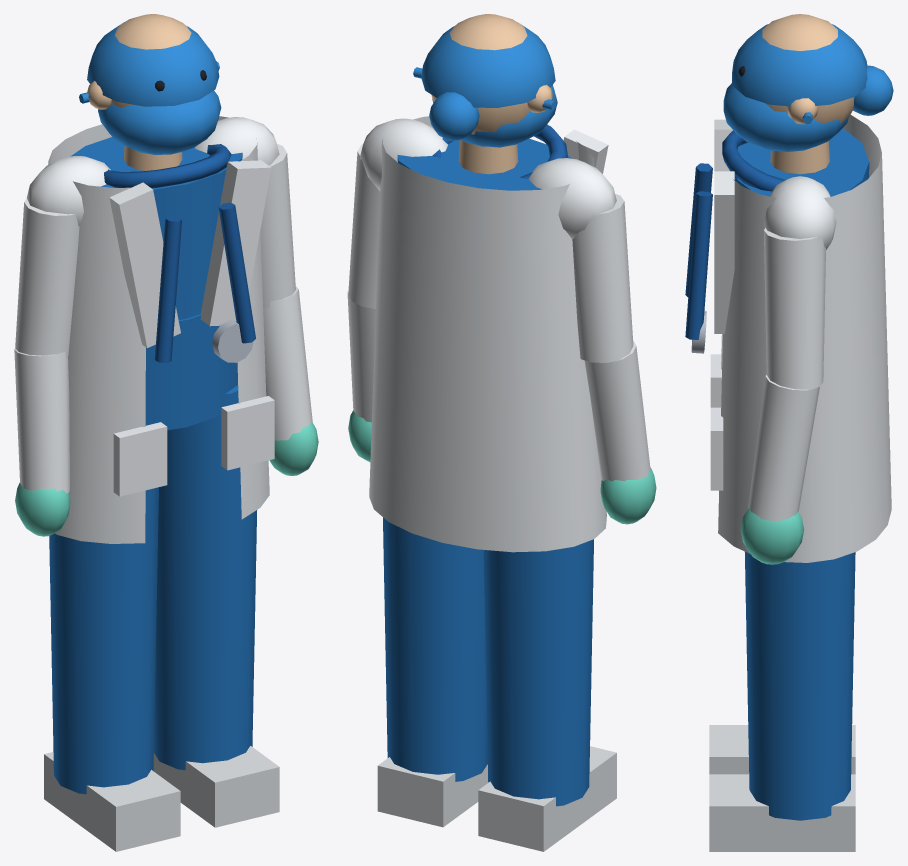
The model's file is staff_surgeon.glb.
3 views of the same model, side by side, from view 1: azimuth 30°, elevation 25°; view 2: azimuth 150°, elevation 25°; view 3: azimuth 270°, elevation 25° (orthographic).
Visible parts, largest first — view 1: staff_surgeon_coat, staff_surgeon_scrub, staff_surgeon_shoe, staff_surgeon_scrubHi, staff_surgeon_tube, staff_surgeon_glove, staff_surgeon_skin, staff_surgeon_steel; view 2: staff_surgeon_coat, staff_surgeon_scrub, staff_surgeon_shoe, staff_surgeon_scrubHi, staff_surgeon_skin, staff_surgeon_glove, staff_surgeon_tube; view 3: staff_surgeon_coat, staff_surgeon_scrub, staff_surgeon_scrubHi, staff_surgeon_shoe, staff_surgeon_skin, staff_surgeon_tube, staff_surgeon_glove.
Boxes of the visible parts, box(x1,y1,x2,y2) form: staff_surgeon_coat: box(14, 116, 312, 543); staff_surgeon_scrub: box(49, 137, 256, 794); staff_surgeon_shoe: box(44, 746, 279, 851); staff_surgeon_scrubHi: box(79, 22, 221, 154); staff_surgeon_tube: box(104, 144, 255, 362); staff_surgeon_glove: box(15, 422, 318, 536); staff_surgeon_skin: box(87, 14, 191, 170); staff_surgeon_steel: box(212, 320, 253, 362); staff_surgeon_coat: box(347, 116, 650, 552); staff_surgeon_scrub: box(383, 138, 593, 806); staff_surgeon_shoe: box(377, 746, 616, 851); staff_surgeon_scrubHi: box(413, 24, 557, 147); staff_surgeon_skin: box(421, 14, 552, 174); staff_surgeon_glove: box(348, 410, 656, 524); staff_surgeon_tube: box(432, 124, 567, 179); staff_surgeon_coat: box(710, 115, 891, 562); staff_surgeon_scrub: box(734, 128, 869, 820); staff_surgeon_scrubHi: box(723, 24, 893, 151); staff_surgeon_shoe: box(709, 725, 855, 851); staff_surgeon_skin: box(762, 14, 854, 174); staff_surgeon_tube: box(685, 130, 816, 339); staff_surgeon_glove: box(740, 508, 804, 564).
Bounding box in the file's own units: 0.6831 × 1.73 × 0.4123.
